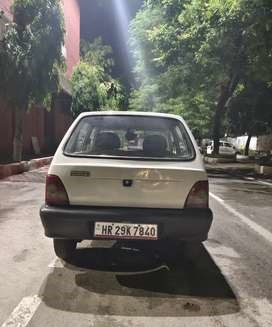HR29K7840: (94, 221, 157, 239)
